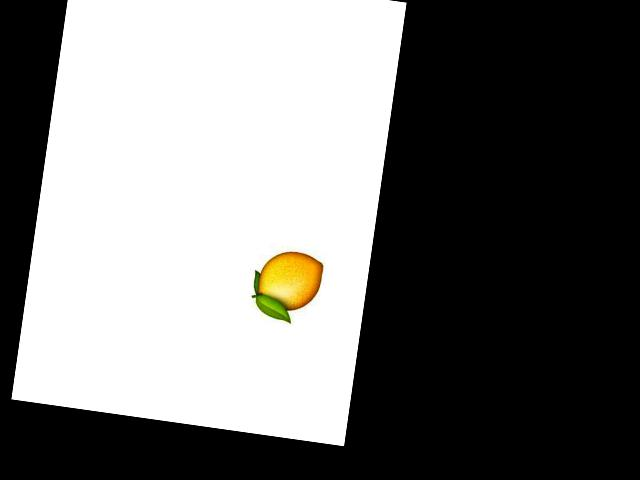lemon: (247, 241, 329, 319)
